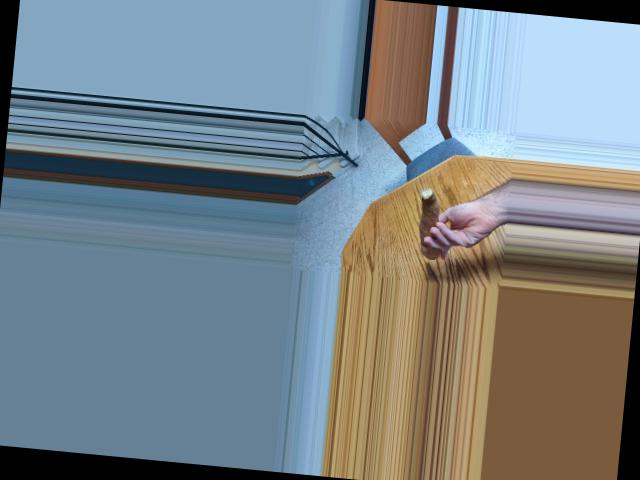sweet_potato: (415, 181, 444, 260)
